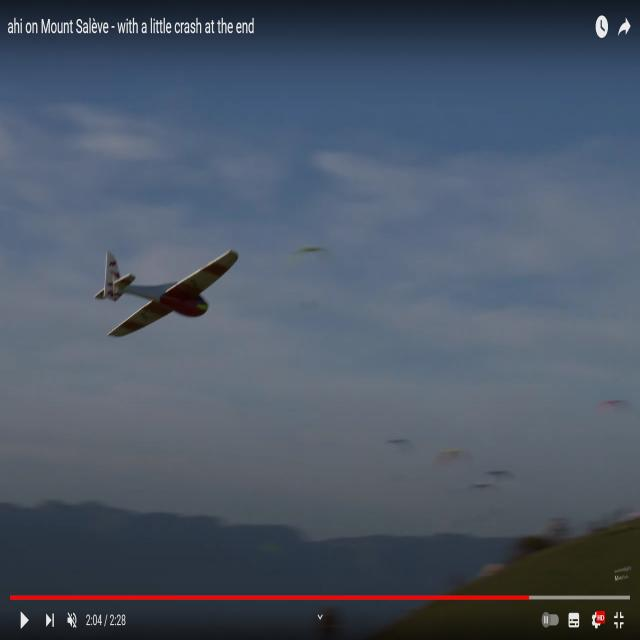iha: (90, 282, 240, 306)
